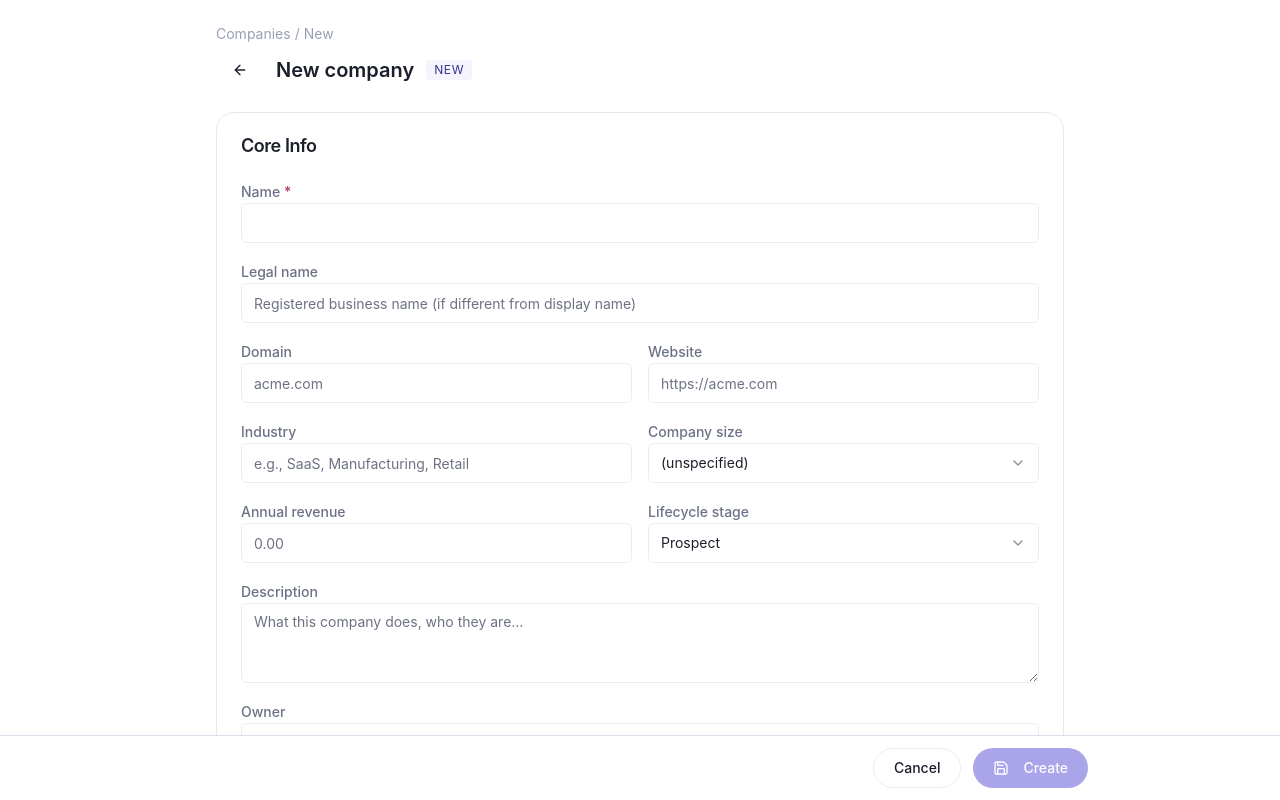
Test: KAN-937 — CompanyForm › (5) Name required: empty + Save → error banner
Type "foo.com" into the field labelled "Domain" at (436, 383), box [241,363,632,403]
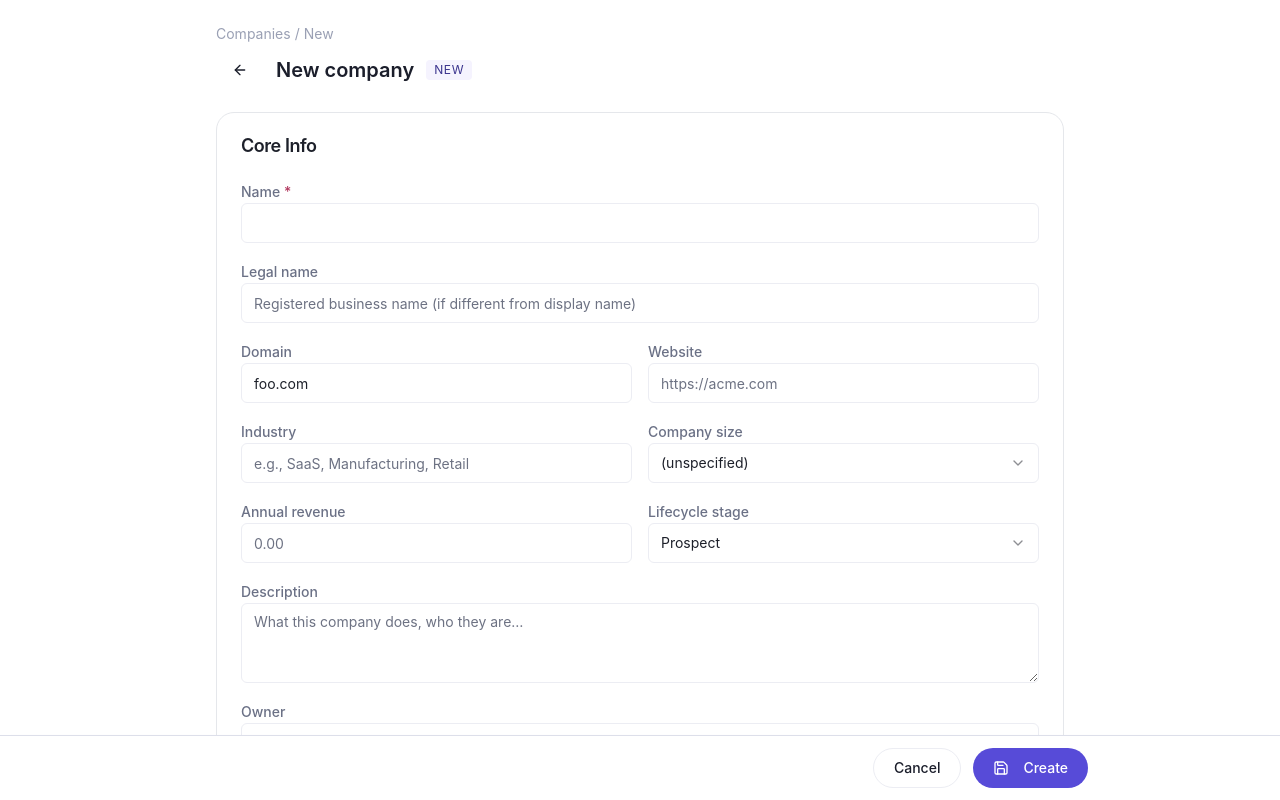
Click the button "Create" at (1031, 768), box [973,748,1088,788]
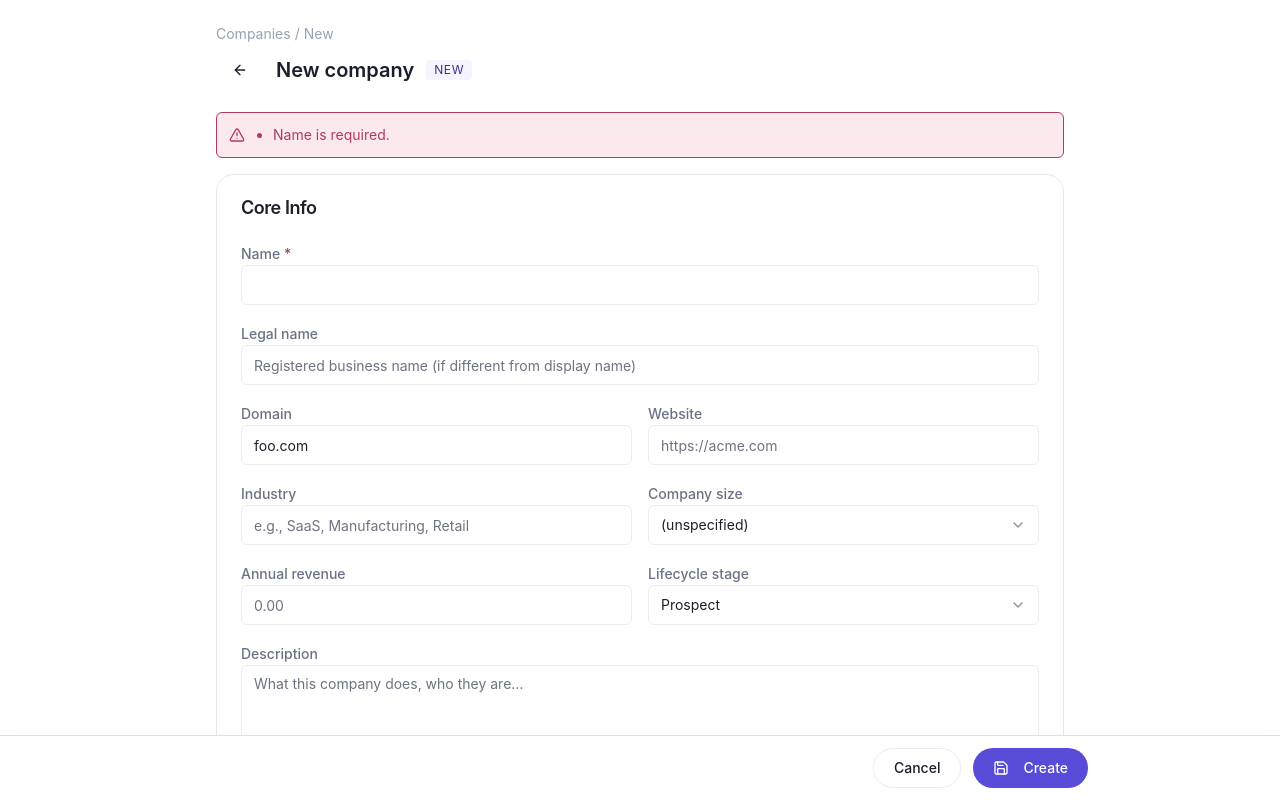
Result: the list item "Name is required." is shown at [273,125,390,145]
